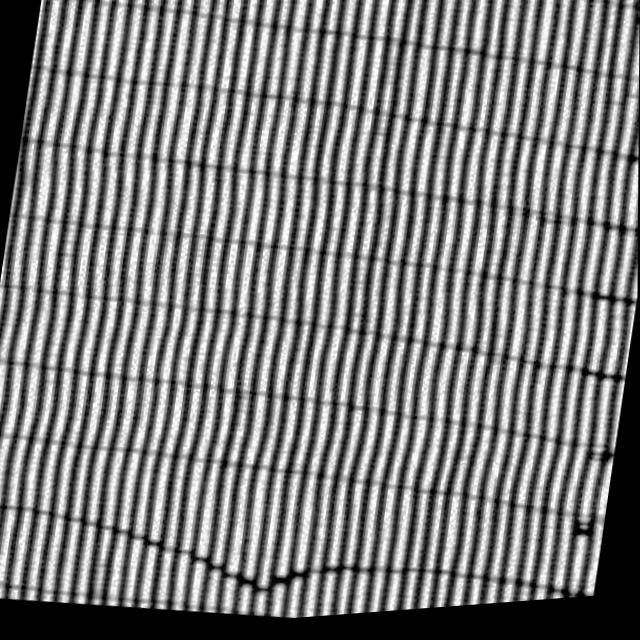Stitch: (62, 479, 413, 636)
